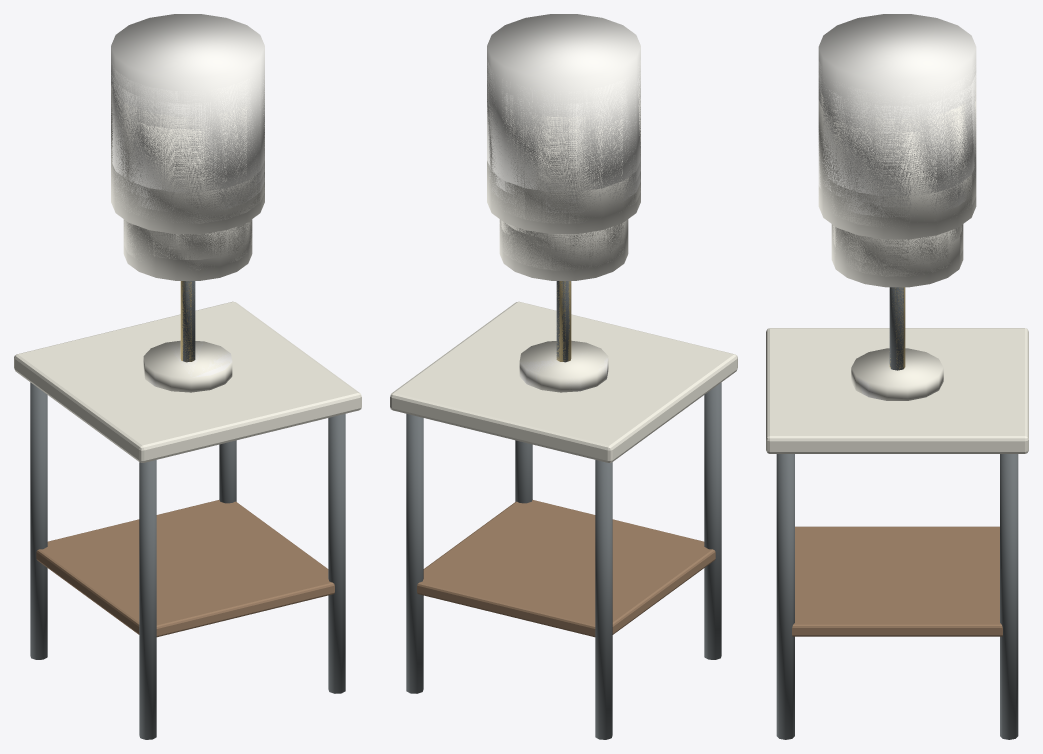
File: Gear20.fbx
3 views of the same model, side by side, from view 1: azimuth 30°, elevation 25°; view 2: azimuth 150°, elevation 25°; view 3: azimuth 270°, elevation 25° (orthographic). The views are drawn at different scales.
Visible parts, largest first — view 1: Gear20_V1_Ivory, Gear20_V10_Paper, Gear20_V10_Walnut, Gear20_V1_Charcoal, Gear20_V6_Linen, Gear20_V7_Linen, Gear20_V1_Linen, Gear20_V8_Paper, Gear20_V9_Paper, Gear20_V3_Linen, Gear20_V2_Linen, Gear20_V10_Quartz; view 2: Gear20_V1_Ivory, Gear20_V10_Paper, Gear20_V10_Walnut, Gear20_V1_Charcoal, Gear20_V6_Linen, Gear20_V1_Linen, Gear20_V7_Linen, Gear20_V8_Paper, Gear20_V9_Paper, Gear20_V2_Linen, Gear20_V10_Quartz, Gear20_V3_Linen; view 3: Gear20_V1_Ivory, Gear20_V10_Paper, Gear20_V10_Walnut, Gear20_V1_Charcoal, Gear20_V6_Linen, Gear20_V8_Paper, Gear20_V1_Linen, Gear20_V7_Linen, Gear20_V9_Paper, Gear20_V2_Linen, Gear20_V3_Linen, Gear20_V3_Charcoal.
Boxes of the visible parts, box(x1,y1,x2,y2) form: Gear20_V1_Ivory: box(14, 301, 361, 462); Gear20_V10_Paper: box(111, 14, 264, 192); Gear20_V10_Walnut: box(36, 500, 334, 637); Gear20_V1_Charcoal: box(30, 281, 345, 739); Gear20_V6_Linen: box(111, 99, 264, 233); Gear20_V7_Linen: box(111, 85, 264, 223); Gear20_V1_Linen: box(123, 219, 252, 280); Gear20_V8_Paper: box(111, 72, 264, 212); Gear20_V9_Paper: box(111, 62, 264, 202); Gear20_V3_Linen: box(126, 221, 250, 259); Gear20_V2_Linen: box(124, 219, 252, 270); Gear20_V10_Quartz: box(147, 341, 232, 388); Gear20_V1_Ivory: box(390, 301, 737, 462); Gear20_V10_Paper: box(487, 14, 640, 191); Gear20_V10_Walnut: box(417, 500, 715, 637); Gear20_V1_Charcoal: box(406, 281, 721, 739); Gear20_V6_Linen: box(487, 99, 640, 233); Gear20_V1_Linen: box(499, 219, 628, 280); Gear20_V7_Linen: box(491, 89, 640, 223); Gear20_V8_Paper: box(487, 73, 640, 212); Gear20_V9_Paper: box(487, 59, 640, 202); Gear20_V2_Linen: box(501, 223, 624, 270); Gear20_V10_Quartz: box(520, 344, 608, 391); Gear20_V3_Linen: box(499, 220, 623, 259); Gear20_V1_Ivory: box(766, 328, 1028, 453); Gear20_V10_Paper: box(818, 14, 976, 196); Gear20_V10_Walnut: box(792, 526, 1002, 636); Gear20_V1_Charcoal: box(776, 287, 1018, 739); Gear20_V6_Linen: box(818, 100, 976, 239); Gear20_V8_Paper: box(818, 73, 976, 217); Gear20_V1_Linen: box(831, 224, 963, 287); Gear20_V7_Linen: box(818, 87, 976, 227); Gear20_V9_Paper: box(818, 61, 976, 206); Gear20_V2_Linen: box(834, 224, 963, 276); Gear20_V3_Linen: box(833, 224, 962, 265); Gear20_V3_Charcoal: box(894, 287, 903, 370).
Bounding box in the file's own units: 40 × 108 × 40.
